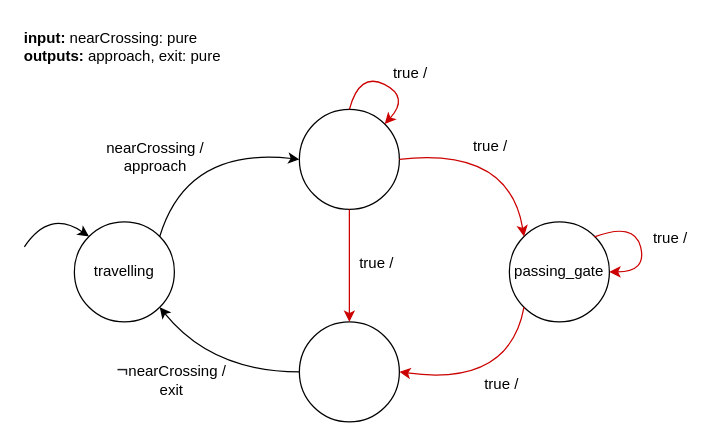
Image size: 721x444. Some labels were removed from this diagram. Here are the shapes that lost their labels. From the top down, the centre of each, then its label:
[348,158]: approaching
[348,371]: exiting
